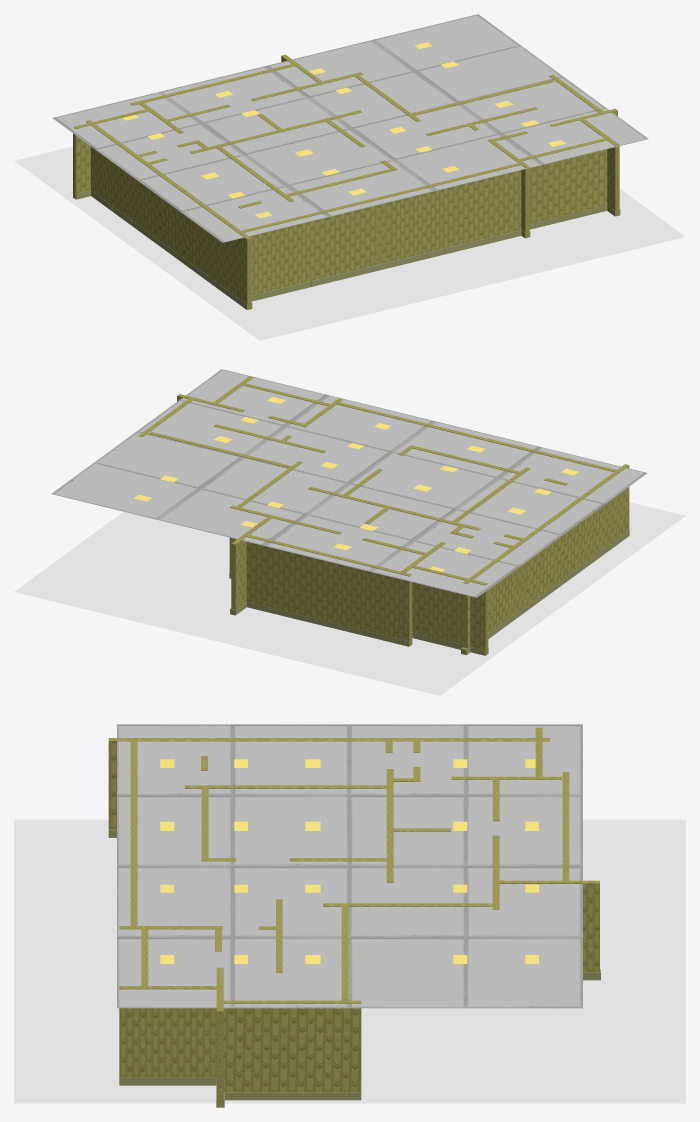
The model's file is Museo.glb.
3 renders of one model, top to bottom at view 1: azimuth 30°, elevation 25°; view 2: azimuth 150°, elevation 25°; view 3: azimuth 270°, elevation 25°, orthographic. The views are drawn at different scales.
Parts seen in each view (by area): view 1: Museo; view 2: Museo; view 3: Museo.
Boxes of the visible parts, left/top/right/bottom form: Museo: left=14, top=14, right=685, bottom=340; Museo: left=14, top=369, right=685, bottom=695; Museo: left=14, top=724, right=685, bottom=1107.
Size of the model in its own units: 76.24 by 11.91 by 75.16.
5 materials, 2 textured.
